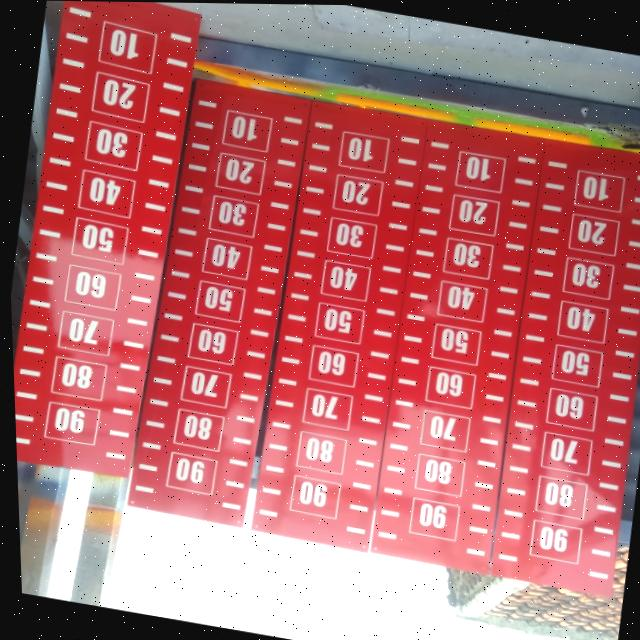water-meter: (0, 0, 233, 491), (106, 62, 330, 541), (229, 88, 442, 565), (350, 110, 561, 585), (466, 126, 640, 605)
